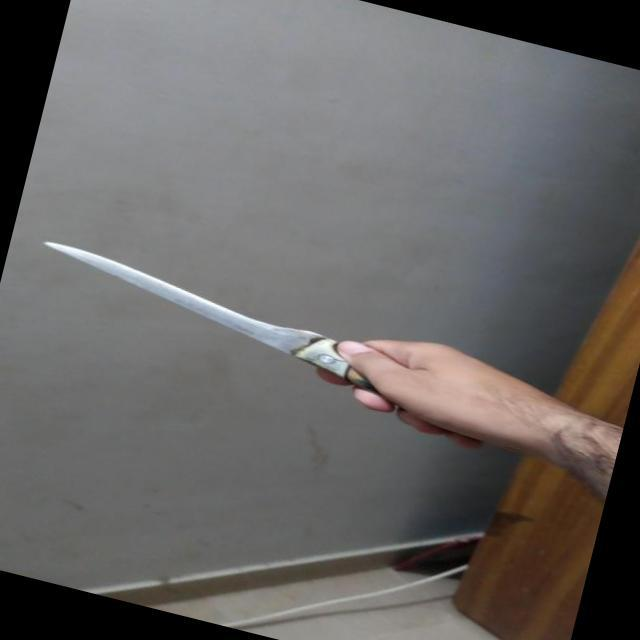Knife: (0, 231, 633, 456)
